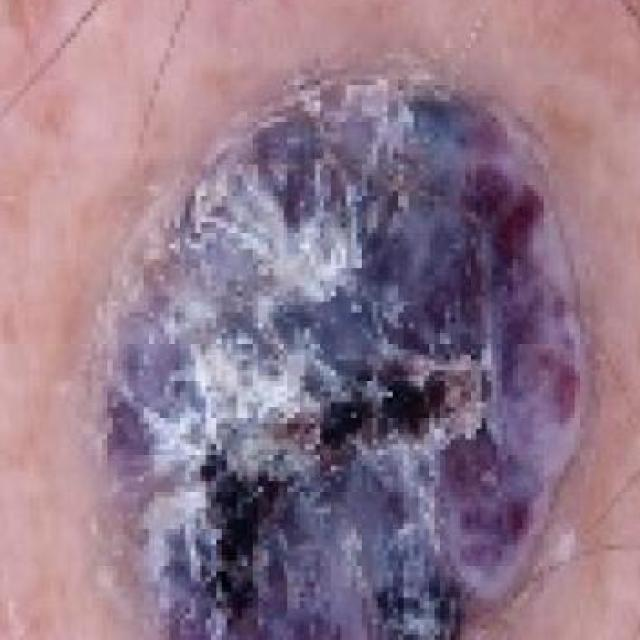VASC: (62, 68, 614, 640)
